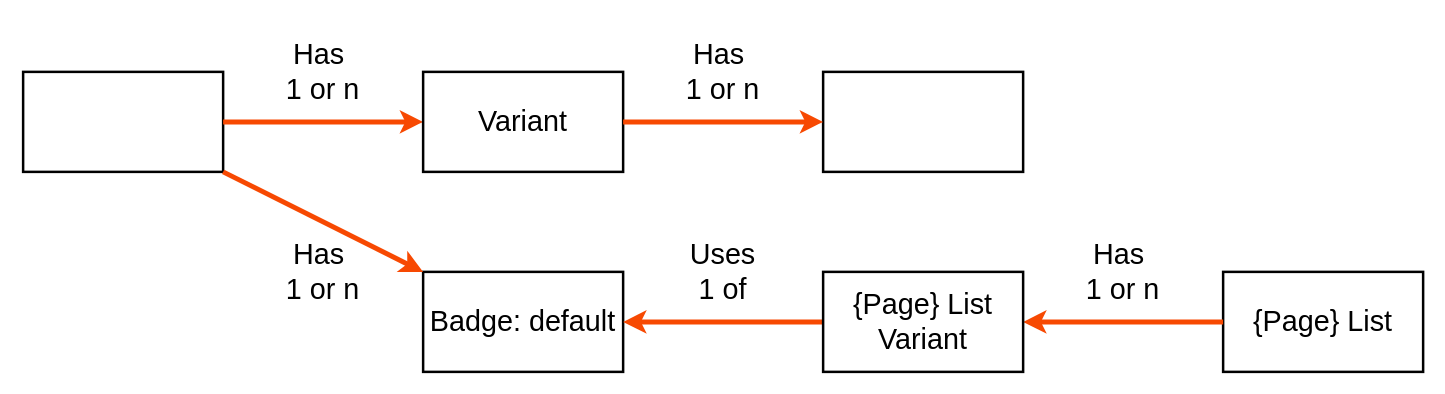
Image size: 1445x394. Some labels were removed from this diagram. The shapes that lost their labels are listed below. From the top down, each one's centre as x and y in pixels, then its label:
(122,121): {Page} Details
(922,121): Style
